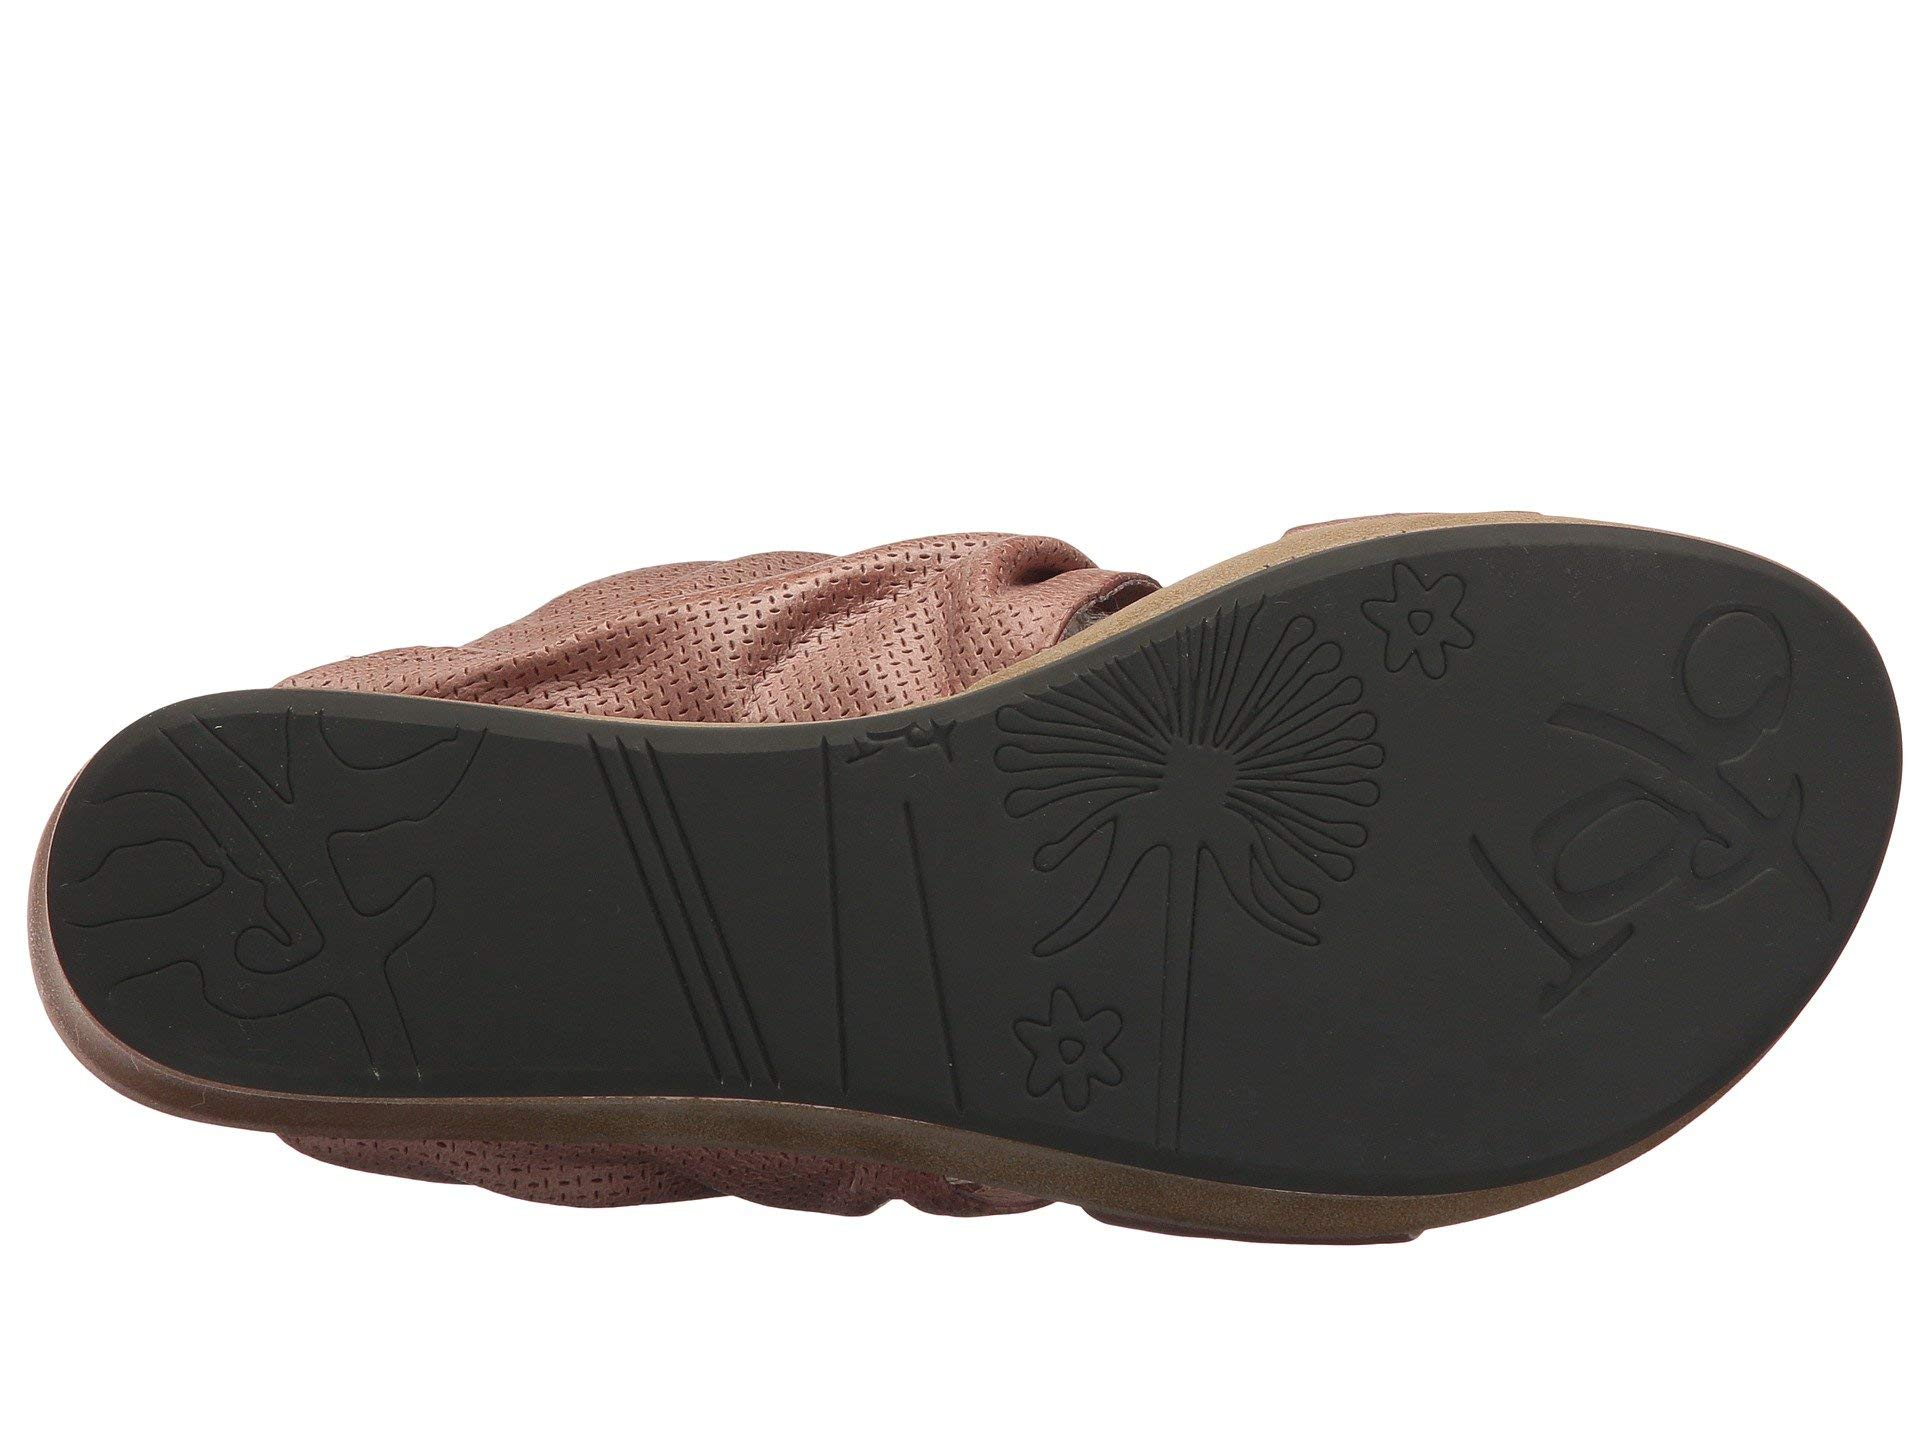circle: (983, 944, 1172, 1116), (1346, 555, 1494, 700)
line: (562, 812, 797, 1044)
star: (1082, 646, 1318, 900), (983, 944, 1172, 1116), (1346, 555, 1494, 700)
text: (1448, 619, 1796, 1018)
